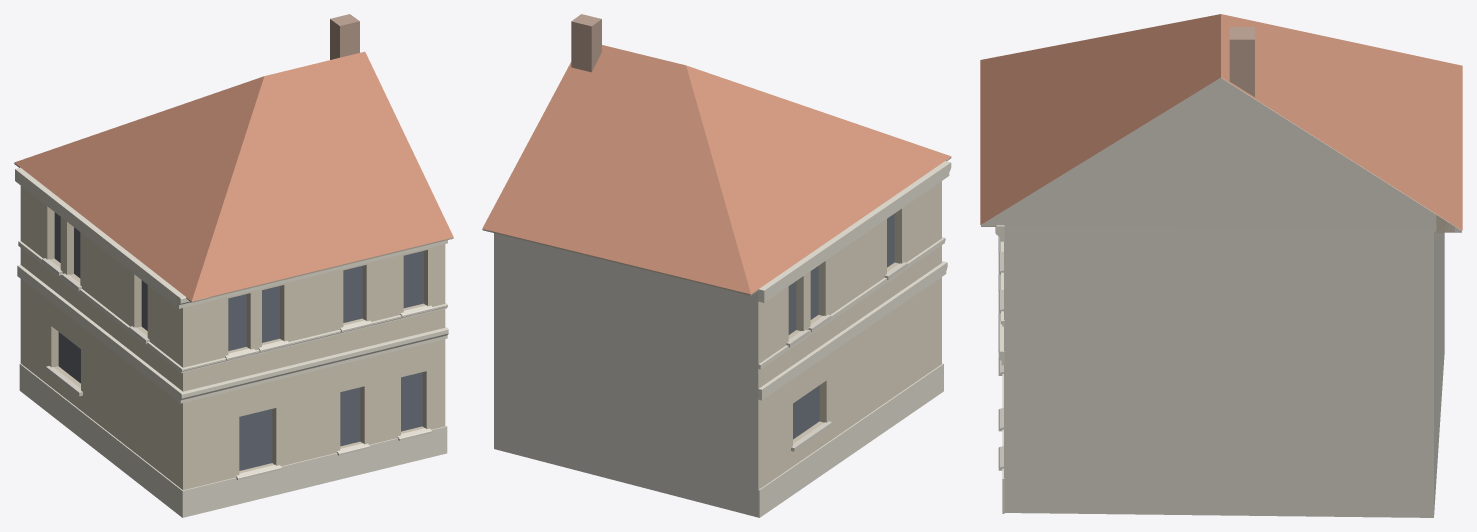
3 renders of one model, left to right at view 1: azimuth 30°, elevation 25°; view 2: azimuth 150°, elevation 25°; view 3: azimuth 270°, elevation 25°, orthographic. The views are drawn at different scales.
Parts seen in each view (by area): view 1: CP_823_Masonry, CP_823_Roof, CP_823_Cornice_plinth_0, CP_823_Cornice_side_plinth, CP_823_Cornice_string_0, CP_823_Cornice_side_main, CP_823_Cornice_side_string, CP_823_Chimney_0, CP_823_Cornice_main_0, CP_823_Cornice_band_0, CP_823_Cornice_side_band; view 2: CP_823_Masonry, CP_823_Roof, CP_823_Cornice_side_plinth, CP_823_Cornice_side_main, CP_823_Cornice_side_string, CP_823_Chimney_0, CP_823_Cornice_side_band, CP_823_Roof_EaveClosure_1; view 3: CP_823_Masonry, CP_823_Roof, CP_823_Gable_R_gable, CP_823_Chimney_0.
Boxes of the visible parts, bbox=[...] form: CP_823_Masonry: bbox=[20, 186, 445, 490]; CP_823_Roof: bbox=[14, 51, 453, 301]; CP_823_Cornice_plinth_0: bbox=[181, 426, 447, 517]; CP_823_Cornice_side_plinth: bbox=[19, 363, 182, 516]; CP_823_Cornice_string_0: bbox=[179, 327, 448, 403]; CP_823_Cornice_side_main: bbox=[15, 167, 182, 307]; CP_823_Cornice_side_string: bbox=[17, 265, 182, 402]; CP_823_Chimney_0: bbox=[330, 14, 359, 59]; CP_823_Cornice_main_0: bbox=[177, 240, 447, 308]; CP_823_Cornice_band_0: bbox=[180, 303, 447, 373]; CP_823_Cornice_side_band: bbox=[18, 241, 182, 371]; CP_823_Masonry: bbox=[494, 181, 941, 517]; CP_823_Roof: bbox=[482, 45, 951, 294]; CP_823_Cornice_side_plinth: bbox=[758, 364, 942, 517]; CP_823_Cornice_side_main: bbox=[758, 163, 947, 302]; CP_823_Cornice_side_string: bbox=[758, 263, 945, 400]; CP_823_Chimney_0: bbox=[571, 14, 601, 72]; CP_823_Cornice_side_band: bbox=[758, 238, 943, 369]; CP_823_Roof_EaveClosure_1: bbox=[482, 229, 754, 295]; CP_823_Masonry: bbox=[1004, 225, 1444, 517]; CP_823_Roof: bbox=[980, 14, 1462, 230]; CP_823_Gable_R_gable: bbox=[981, 77, 1461, 231]; CP_823_Chimney_0: bbox=[1229, 27, 1254, 96].
Size of the model in its own units: 9.68 by 12.3 by 11.32.
